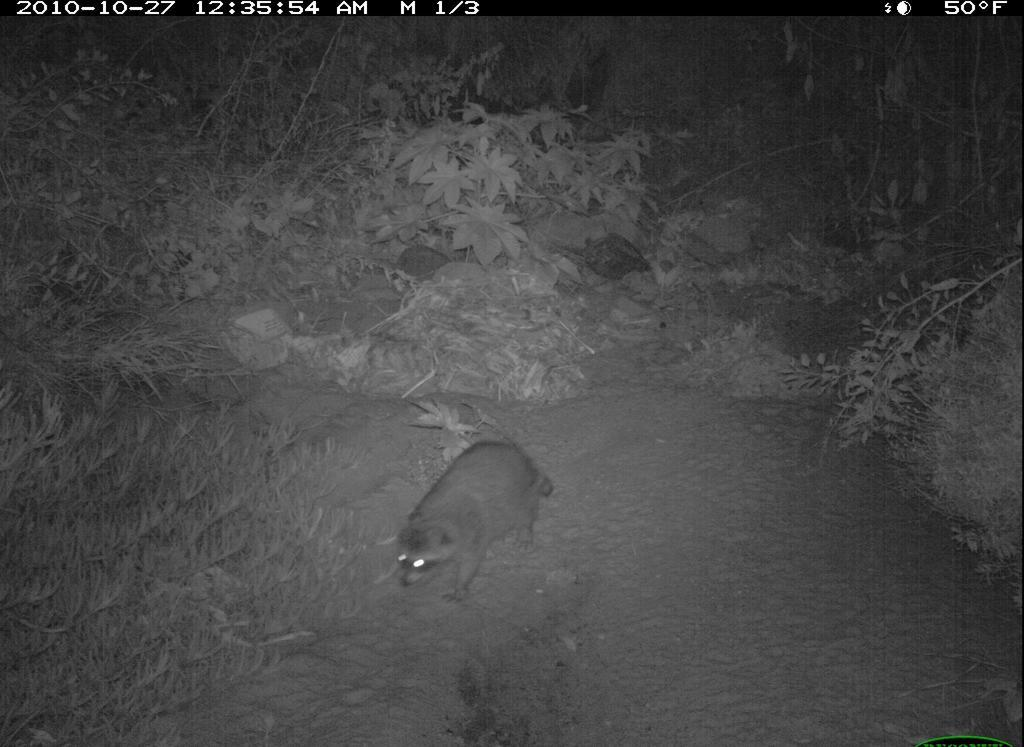raccoon: (390, 429, 565, 601)
